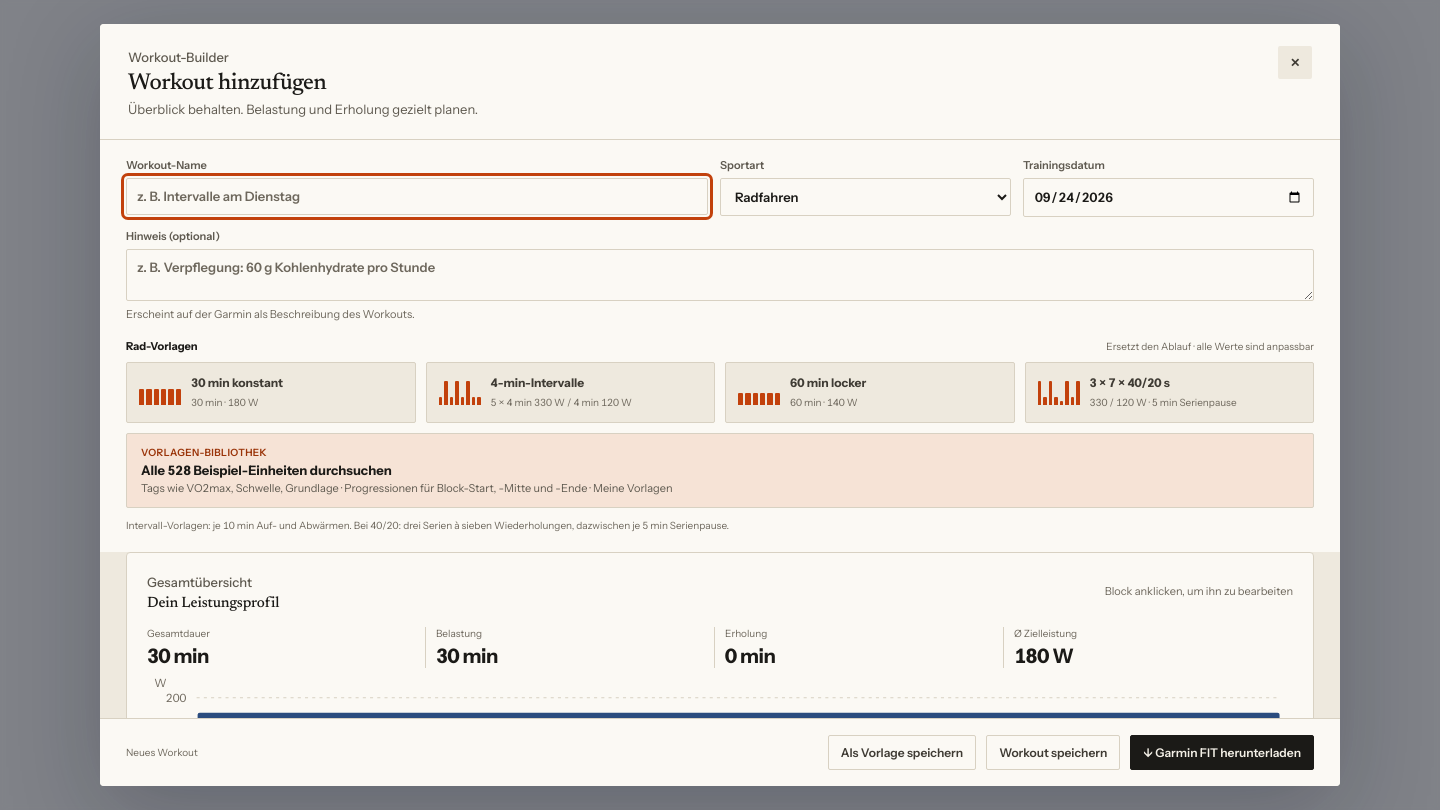
Test case: example preserves repeat structure and shows known duration plus distance
Select "Laufen" in the dropdown labelled "Sportart" at coordinates (866, 197), box x1=720 y1=178 x2=1011 y2=216
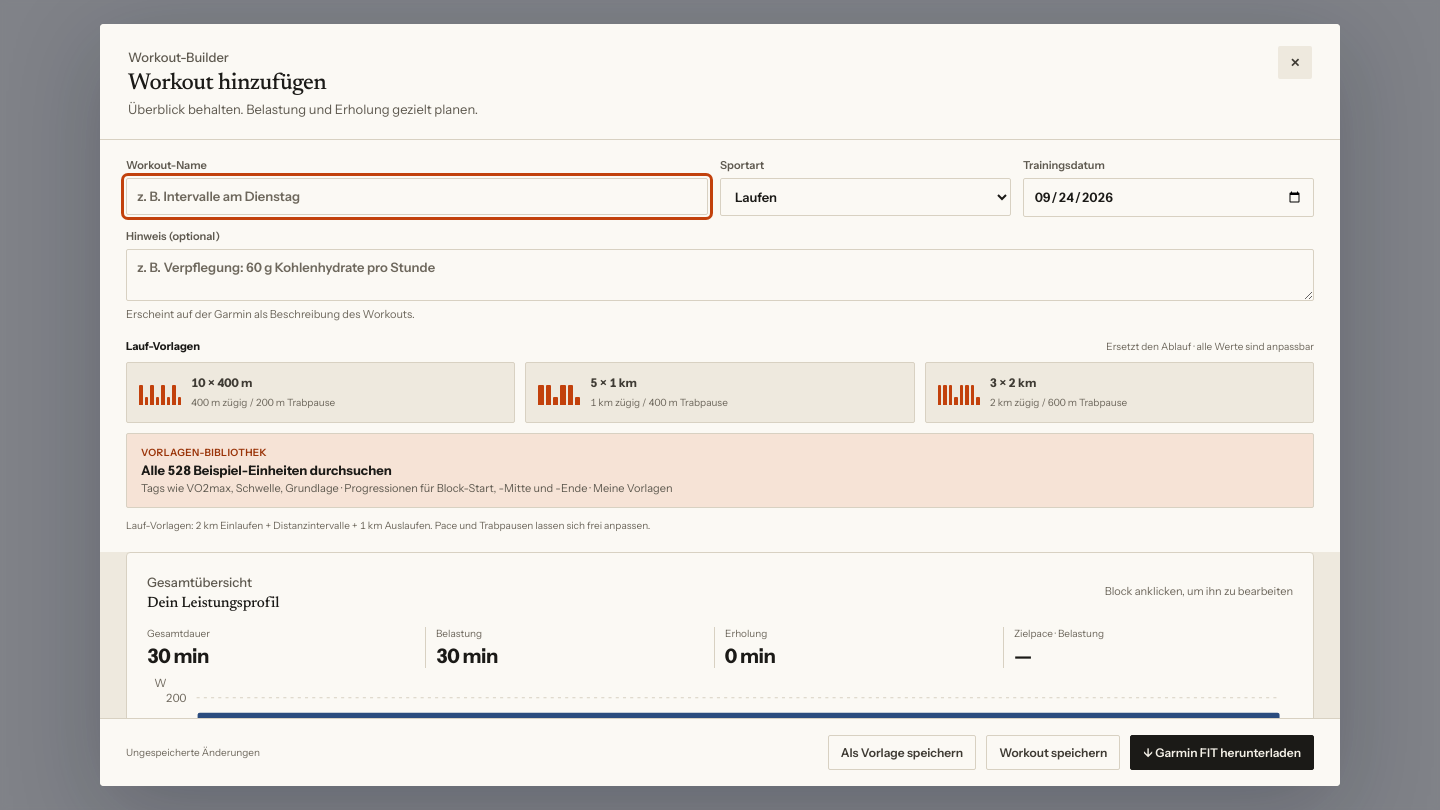
Click the button "5 × 1 km 1 km zügig / 400 m Trabpause" at coordinates (614, 383), box x1=525 y1=362 x2=915 y2=423
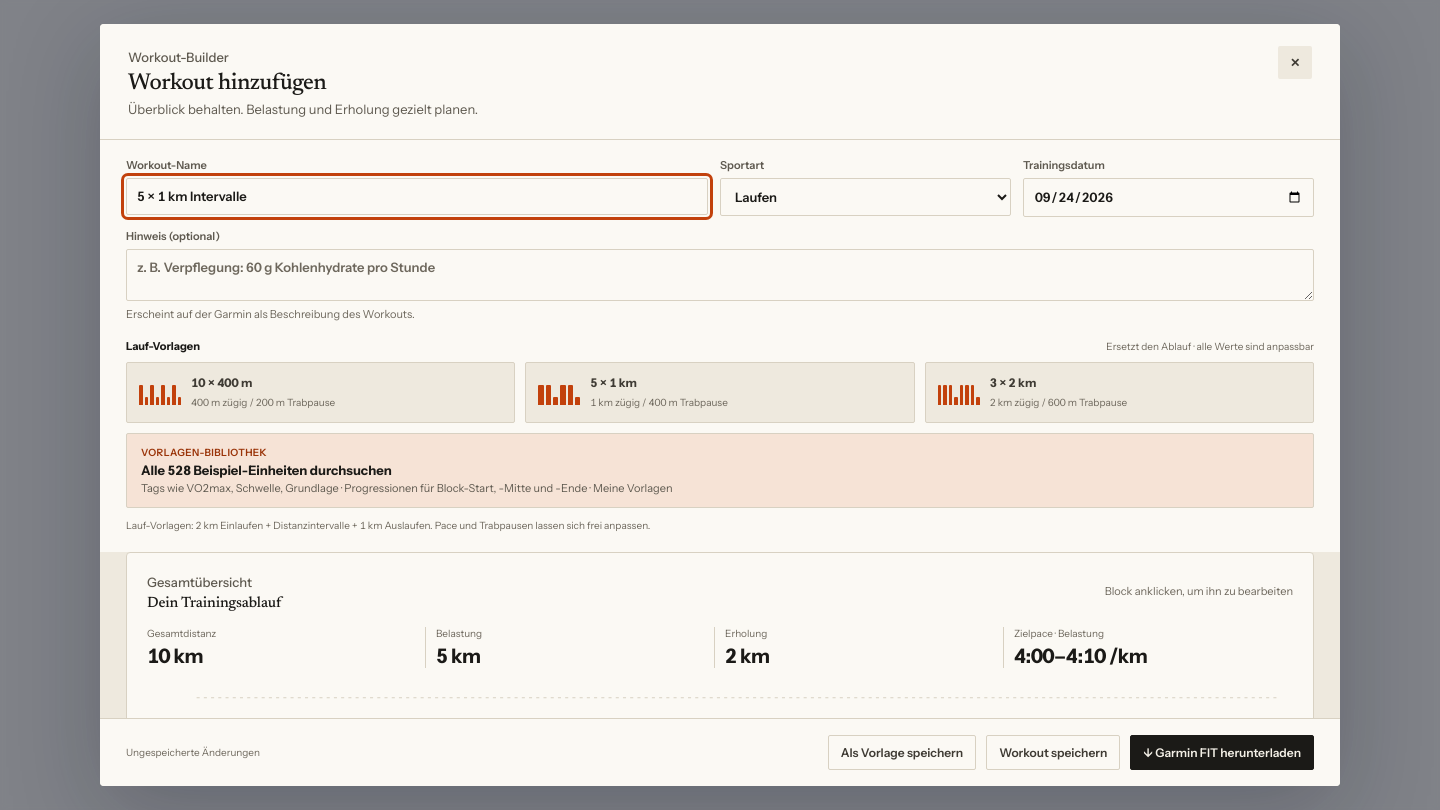
Check: the text "4:00–4:10 /km" is shown, box x1=1014 y1=644 x2=1147 y2=668
